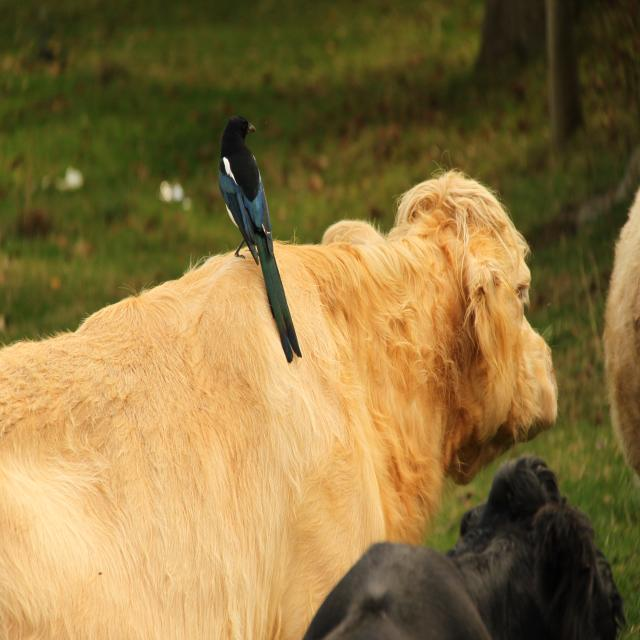cow: (0, 171, 556, 638), (305, 458, 624, 640)
